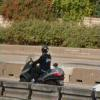Motorcycle: (18, 51, 70, 90)
